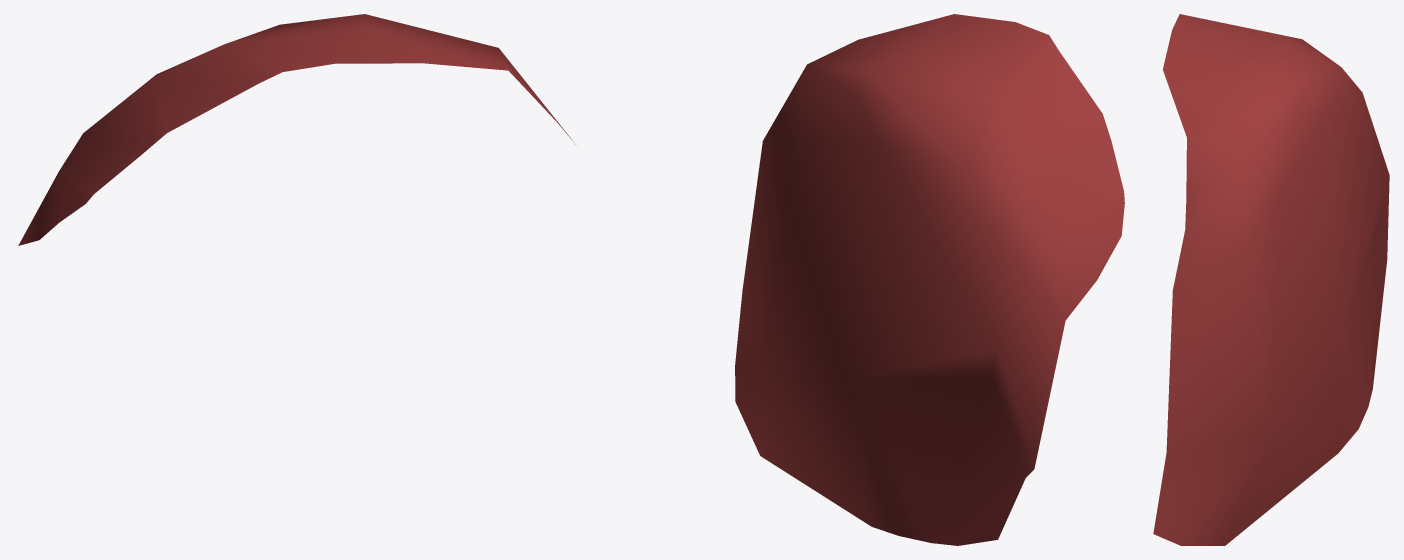
The model's file is triceps-surae-muscle-er.glb.
3 renders of one model, left to right at view 1: azimuth 30°, elevation 25°; view 2: azimuth 150°, elevation 25°; view 3: azimuth 270°, elevation 25°, orthographic. The views are drawn at different scales.
Visible parts, largest first — view 1: Triceps surae muscle.er; view 2: Triceps surae muscle.er; view 3: Triceps surae muscle.er.
Boxes of the visible parts, <box> form: Triceps surae muscle.er: <box>18,14,575,245</box>; Triceps surae muscle.er: <box>735,14,1124,545</box>; Triceps surae muscle.er: <box>1153,14,1389,545</box>.
Bounding box in the file's own units: 0.0257 × 0.0252 × 0.0129.
